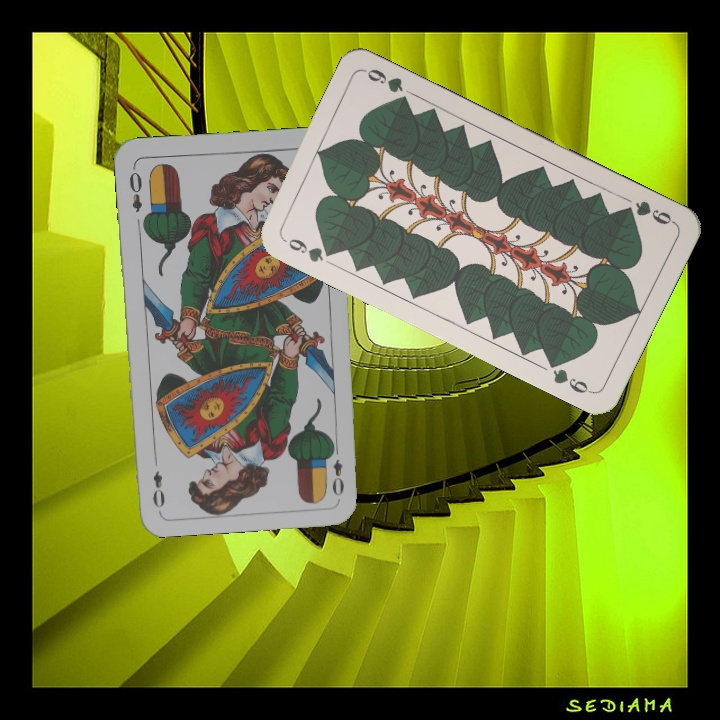EO: (325, 440, 347, 499), (125, 163, 145, 215)
G9: (618, 196, 677, 228), (279, 234, 338, 265)
